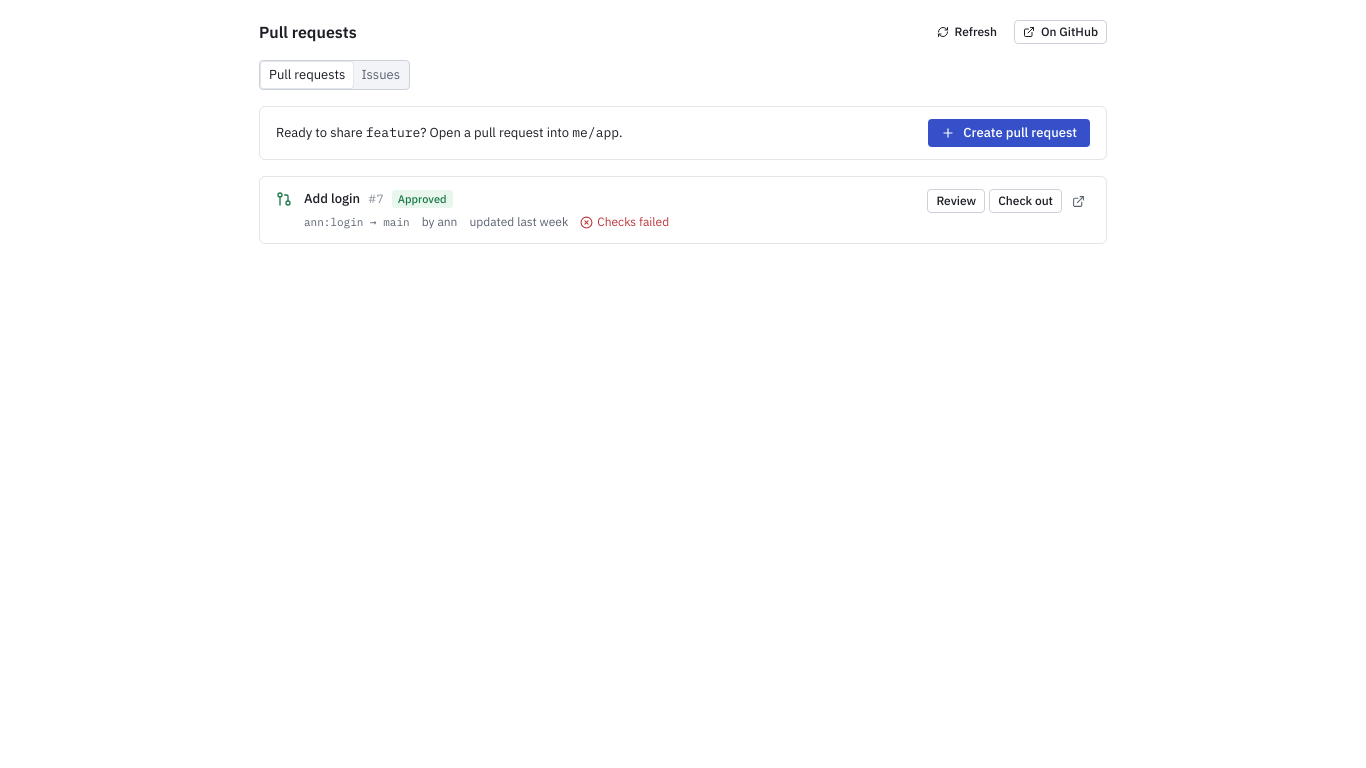
Scenario: PullRequestsView › lists pull requests with checks, and checks one out
This screenshot has width=1366, height=768.
Expected: the text "Add login" is shown, x1=304 y1=189 x2=360 y2=209
Expected: the text "Checks failed" is shown, x1=580 y1=213 x2=669 y2=231
Step 1. Click the button "Check out" → (1026, 201), box x1=989 y1=189 x2=1062 y2=213
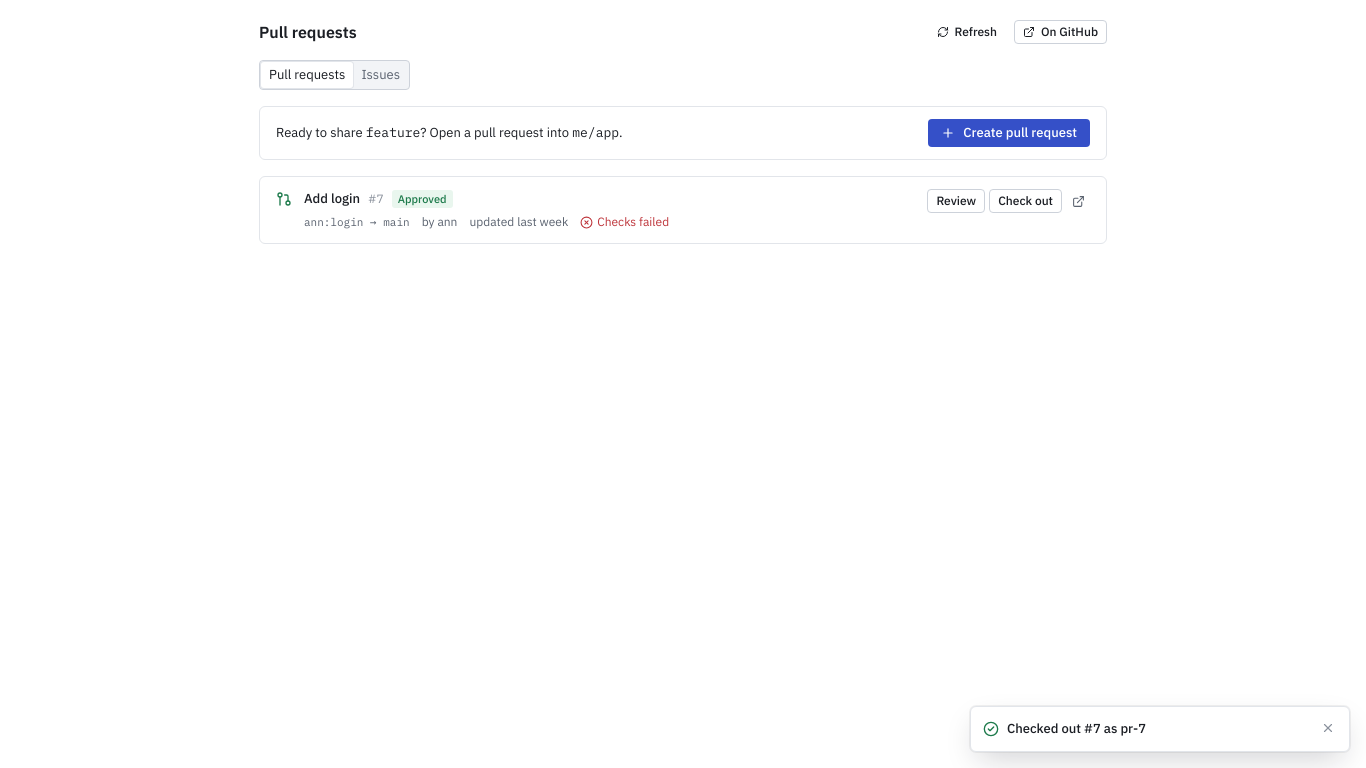
Result: the text "Checked out #7 as pr-7" is shown at x1=1007 y1=720 x2=1146 y2=737
